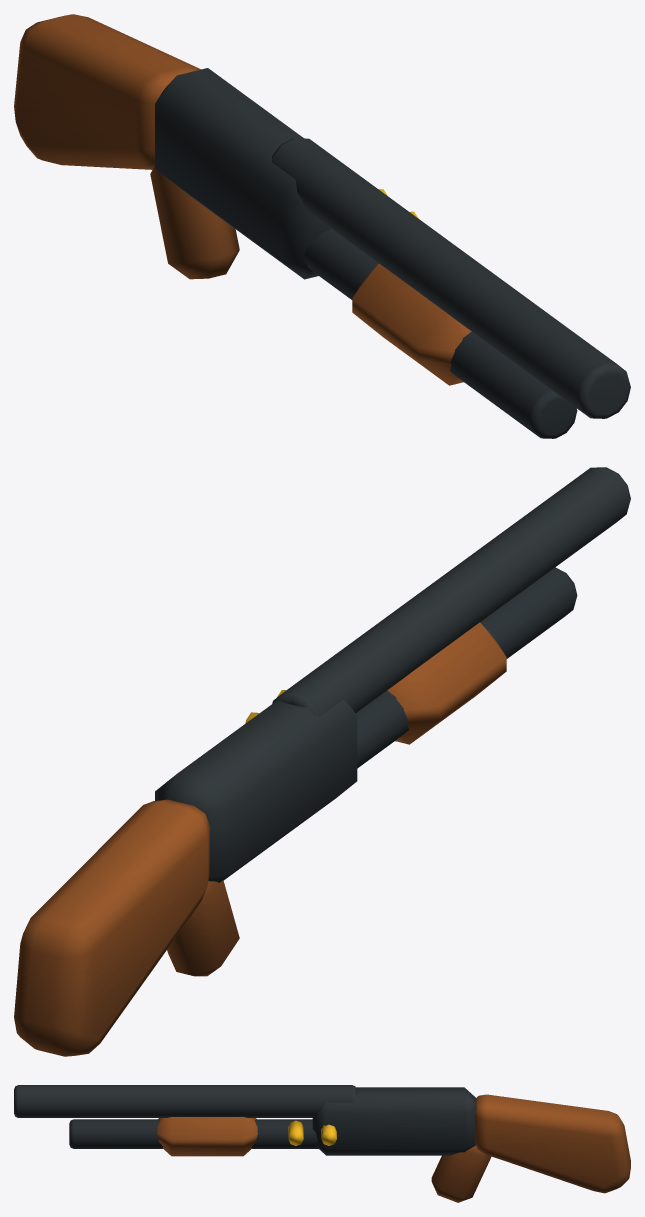
File: weapon_shotgun.glb
3 views of the same model, one above another, from view 1: azimuth 30°, elevation 25°; view 2: azimuth 150°, elevation 25°; view 3: azimuth 270°, elevation 25° (orthographic). The views are drawn at different scales.
Visible parts, largest first — view 1: Long barrel.001, Wood stock.001, Receiver.004, Magazine tube.001, Wood pump.001, Pistol grip.004; view 2: Wood stock.001, Long barrel.001, Receiver.004, Magazine tube.001, Wood pump.001, Pistol grip.004; view 3: Wood stock.001, Long barrel.001, Receiver.004, Magazine tube.001, Wood pump.001, Pistol grip.004, Shell.003, Shell.002.
Boxes of the visible parts, box(x1,y1,x2,y2) form: Long barrel.001: box(272, 138, 630, 418); Wood stock.001: box(14, 14, 200, 169); Receiver.004: box(155, 68, 330, 279); Magazine tube.001: box(304, 228, 577, 438); Wood pump.001: box(352, 263, 471, 385); Pistol grip.004: box(150, 167, 239, 279); Wood stock.001: box(14, 799, 209, 1056); Long barrel.001: box(272, 467, 630, 716); Receiver.004: box(155, 699, 357, 882); Magazine tube.001: box(355, 567, 577, 768); Wood pump.001: box(387, 622, 506, 744); Pistol grip.004: box(167, 880, 239, 976); Wood stock.001: box(475, 1094, 630, 1193); Long barrel.001: box(14, 1085, 356, 1117); Receiver.004: box(312, 1087, 476, 1155); Magazine tube.001: box(69, 1119, 318, 1148); Wood pump.001: box(157, 1117, 257, 1156); Pistol grip.004: box(431, 1145, 491, 1202); Shell.003: box(288, 1120, 303, 1145); Shell.002: box(321, 1124, 336, 1145).
Bounding box in the file's own units: 0.125 × 0.2277 × 1.12.
Materials: 3 (3 with a texture image).
